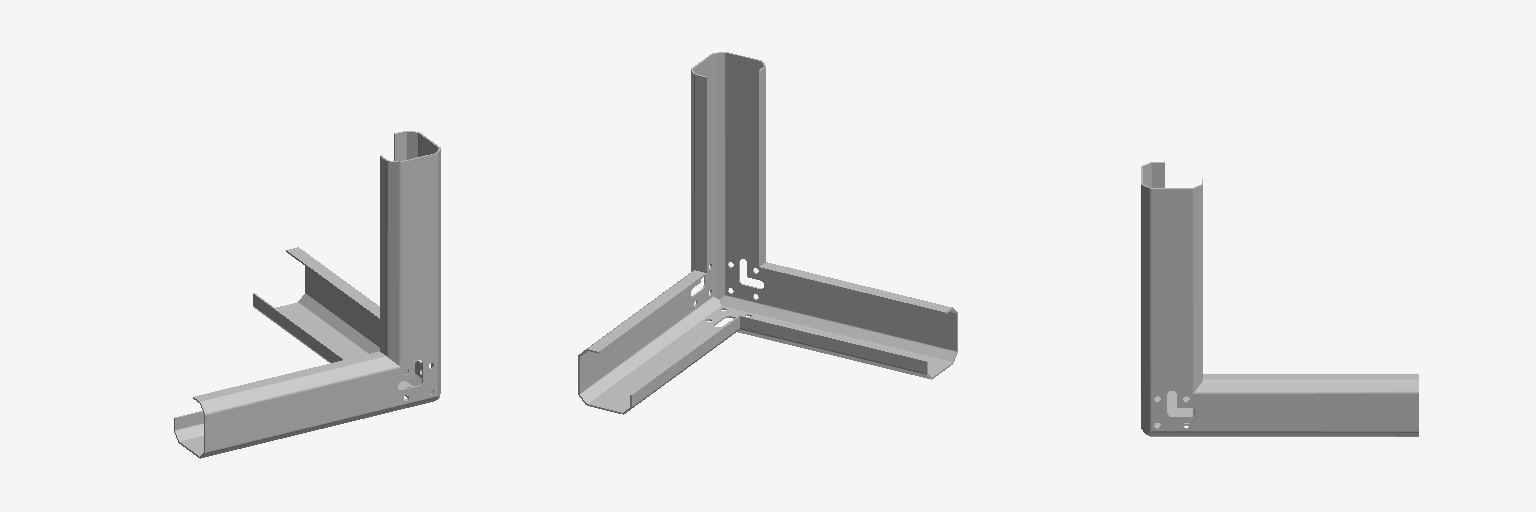
The model's file is B2 (Triple Connector) v1 (stainless steel).obj.
3 views of the same model, side by side, from view 1: azimuth 30°, elevation 25°; view 2: azimuth 150°, elevation 25°; view 3: azimuth 270°, elevation 25° (orthographic).
Visible parts, largest first — view 1: Body1:1, Body1, Body1:2; view 2: Body1:1, Body1, Body1:2; view 3: Body1:2, Body1:1.
Boxes of the visible parts, x1,y1,x2,y2 form: Body1:1: [380, 131, 440, 397]; Body1: [174, 351, 438, 458]; Body1:2: [253, 247, 432, 397]; Body1:1: [691, 52, 765, 299]; Body1: [720, 262, 957, 379]; Body1:2: [578, 270, 739, 414]; Body1:2: [1146, 374, 1418, 436]; Body1:1: [1141, 162, 1202, 433].
Size of the model in its own units: 578 by 578 by 578.